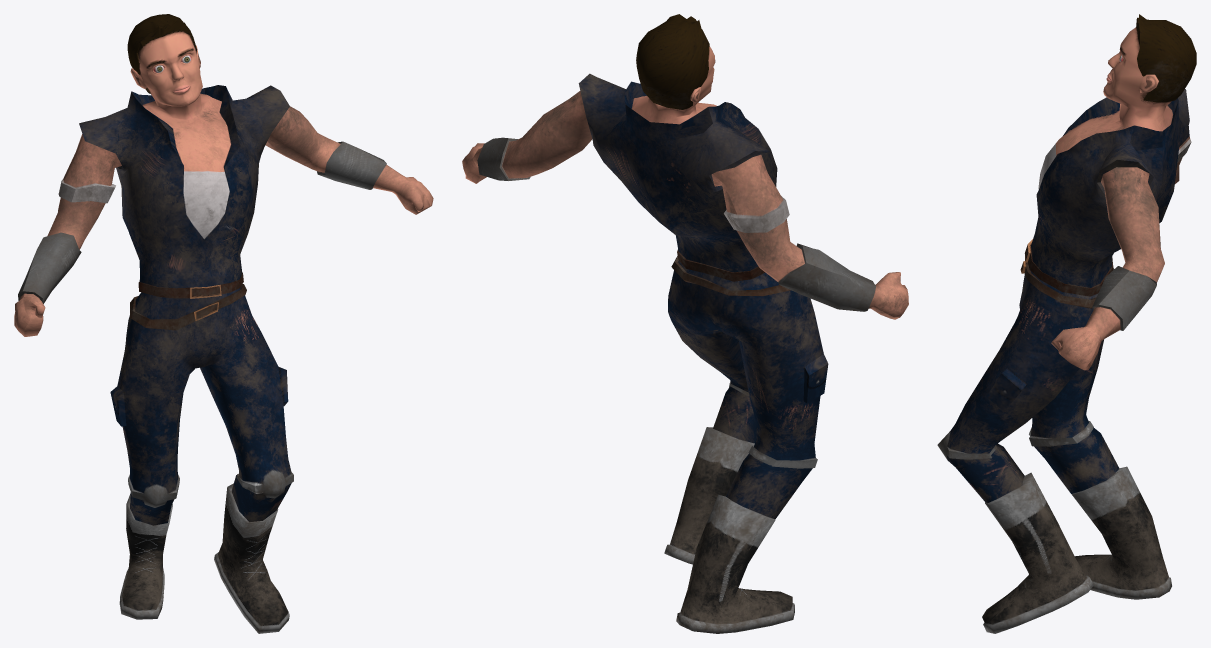
The model's file is Anim_recibirdanyo_jugador.0020.obj.
3 renders of one model, left to right at view 1: azimuth 30°, elevation 25°; view 2: azimuth 150°, elevation 25°; view 3: azimuth 270°, elevation 25°, orthographic. The views are drawn at different scales.
Visible parts, largest first — view 1: polySurface1; view 2: polySurface1; view 3: polySurface1.
Part boxes in pixels (<box>): polySurface1: <box>14,14,433,633</box>; polySurface1: <box>462,14,908,633</box>; polySurface1: <box>937,14,1196,633</box>.
Size of the model in its own units: 6.91 by 9.09 by 3.59.
